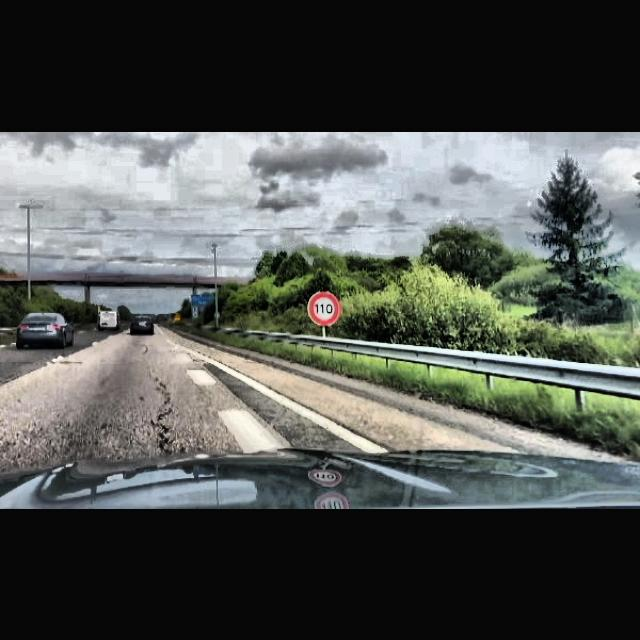speed_110: (309, 292, 339, 324)
